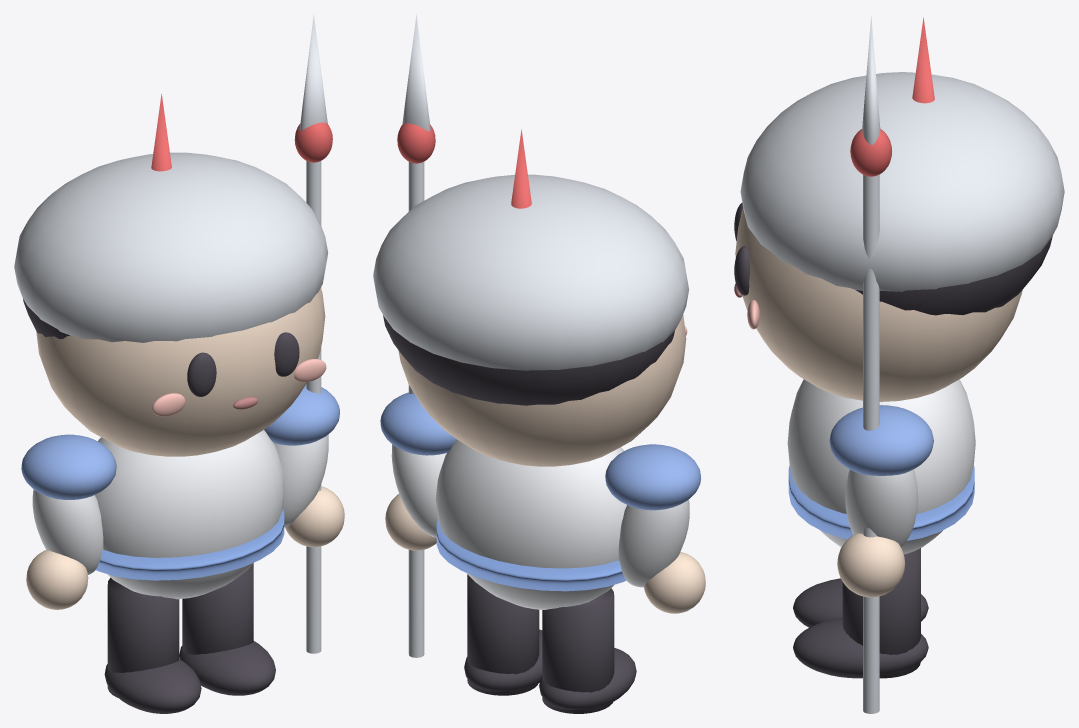
Rendered from zhaoyun.fbx.
3 renders of one model, left to right at view 1: azimuth 30°, elevation 25°; view 2: azimuth 150°, elevation 25°; view 3: azimuth 270°, elevation 25°, orthographic. The views are drawn at different scales.
Visible parts, largest first — view 1: helmet, head_mesh, body, leg, pauldron.001, leg.001, belt, arm_mesh.001, shoe, shoe.001, arm_mesh, pauldron (+10 smaller); view 2: helmet, body, head_mesh, hair, leg, leg.001, pauldron.001, belt, arm_mesh.001, arm_mesh, pauldron, hand_mesh.001 (+7 smaller); view 3: helmet, head_mesh, body, wp_shaft, pauldron, leg.001, arm_mesh, hair, shoe.001, hand_mesh, belt, shoe (+4 smaller).
Part boxes in pixels (x1,y1,x2,y2): helmet: (14,152,327,342); head_mesh: (36,288,325,456); body: (95,430,284,599); leg: (107,577,179,697); pauldron.001: (21,434,116,499); leg.001: (182,564,253,654); belt: (95,509,284,580); arm_mesh.001: (32,489,103,574); shoe: (104,659,201,713); shoe.001: (179,641,275,695); arm_mesh: (274,434,328,527); pauldron: (264,384,339,445); helmet: (373,174,689,370); body: (435,439,626,609); head_mesh: (398,314,686,466); hair: (383,315,674,405); leg: (542,588,614,713); leg.001: (467,574,539,695); pauldron.001: (605,444,700,510); belt: (436,519,626,591); arm_mesh.001: (618,499,689,587); arm_mesh: (391,444,446,537); pauldron: (380,392,456,455); hand_mesh.001: (644,552,705,613); helmet: (740,72,1064,291); head_mesh: (735,208,1022,401); body: (787,379,975,554); wp_shaft: (863,174,879,713); pauldron: (829,405,933,475); leg.001: (842,548,920,678); arm_mesh: (845,469,918,547); hair: (856,236,1052,315); shoe.001: (793,618,928,678); hand_mesh: (837,533,905,597); belt: (788,465,974,540); shoe: (793,578,928,627).
Size of the model in its own units: 0.75 by 1.49 by 0.632.
